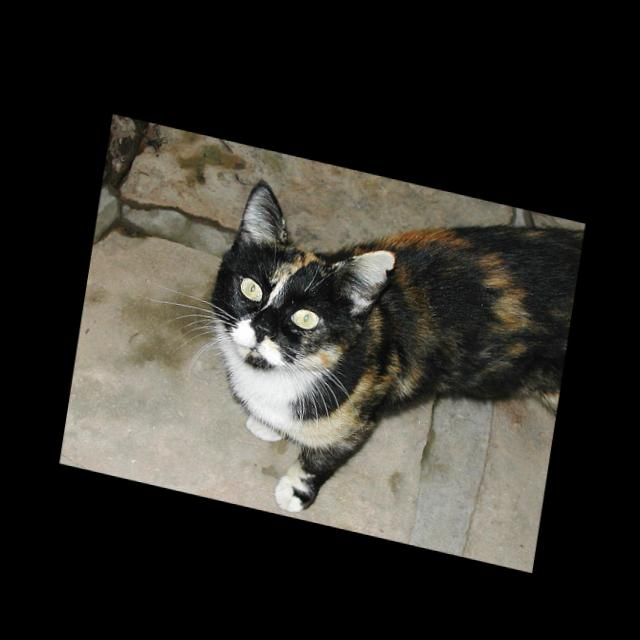animals: (219, 170, 400, 362)
